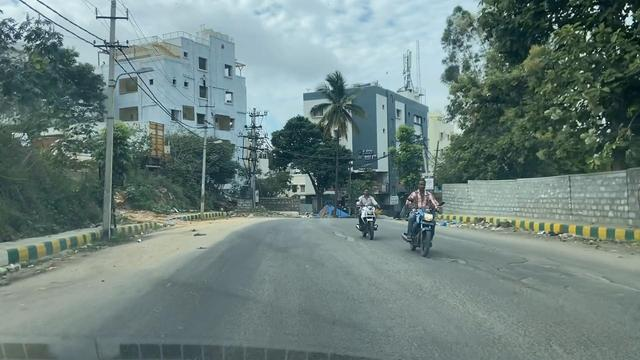RoadDamages: (491, 245, 626, 309), (435, 246, 481, 285)
